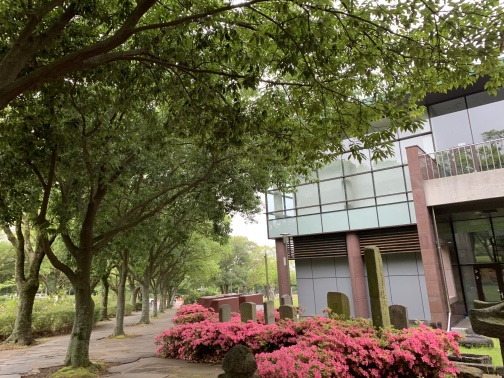Museum: (259, 106, 504, 340)
